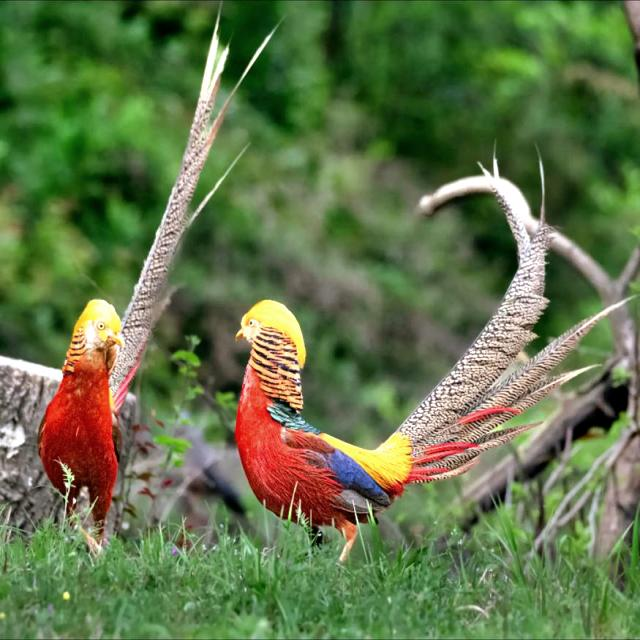Chrysolophus pictus feather: (399, 138, 638, 483), (109, 0, 286, 414)
